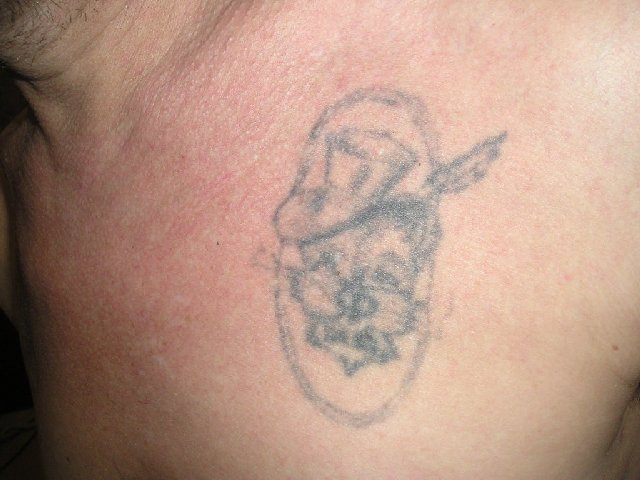tatu8_kot: (261, 86, 510, 443)
